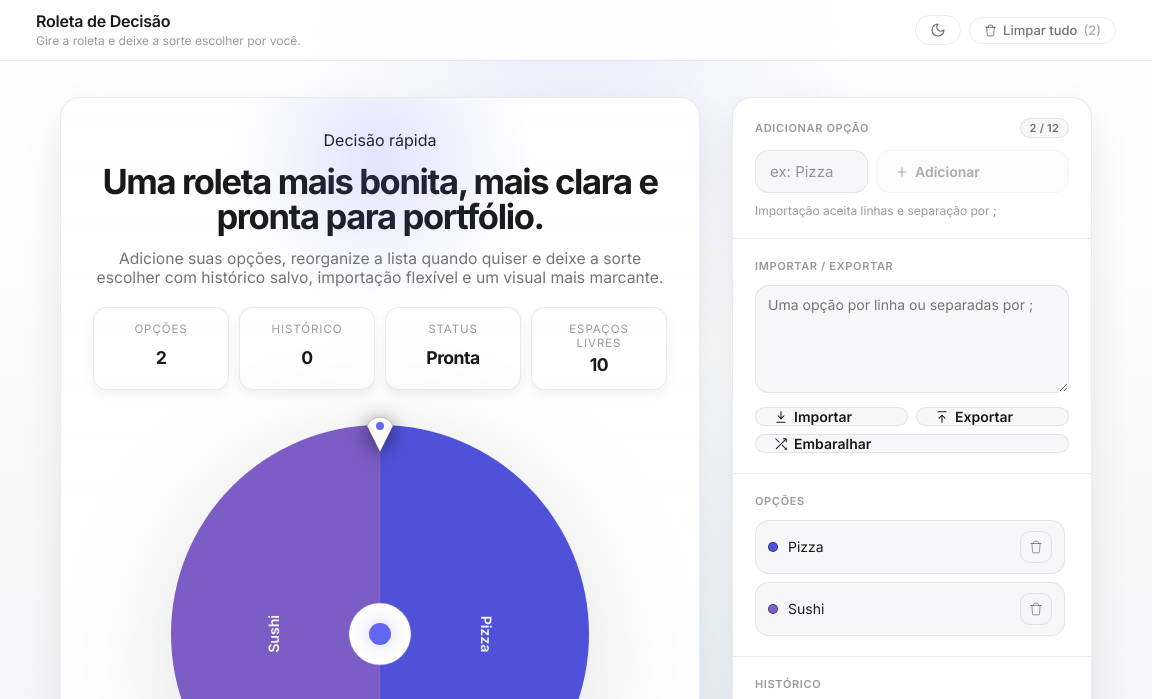
App › adiciona uma nova opção e evita duplicadas
Type "Sorvete" into the field named "nova opção" at (812, 172), box [755,150,868,193]
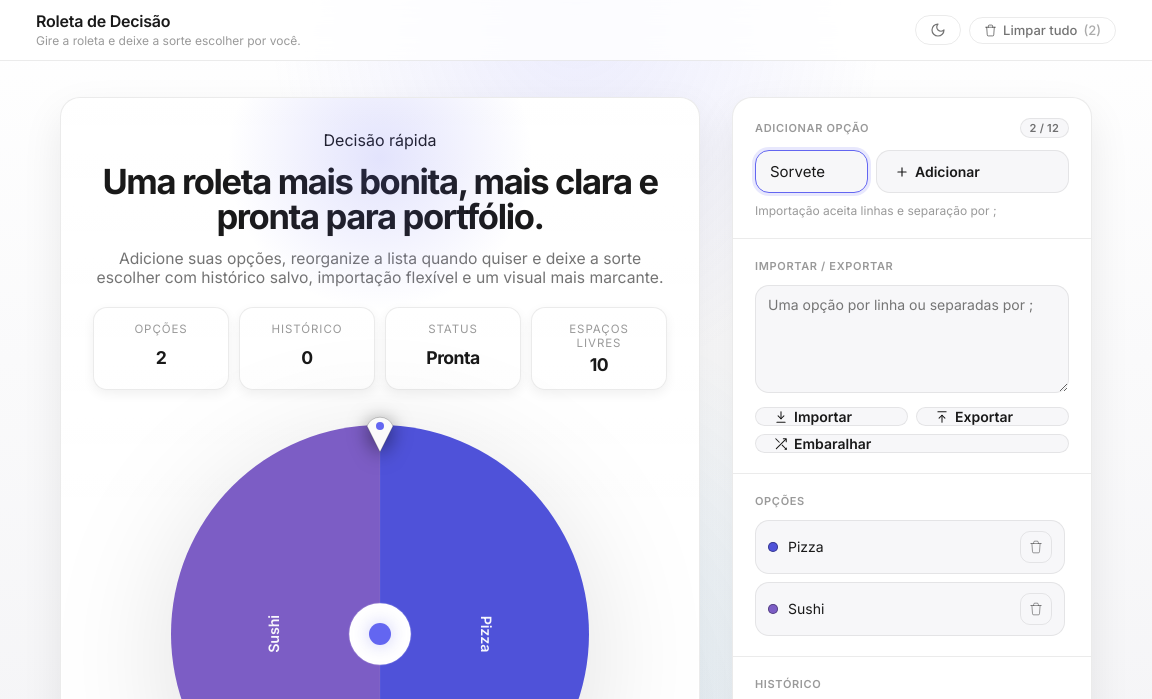
Click the button with aria-label "adicionar opção" at (972, 172), box [876,150,1069,193]
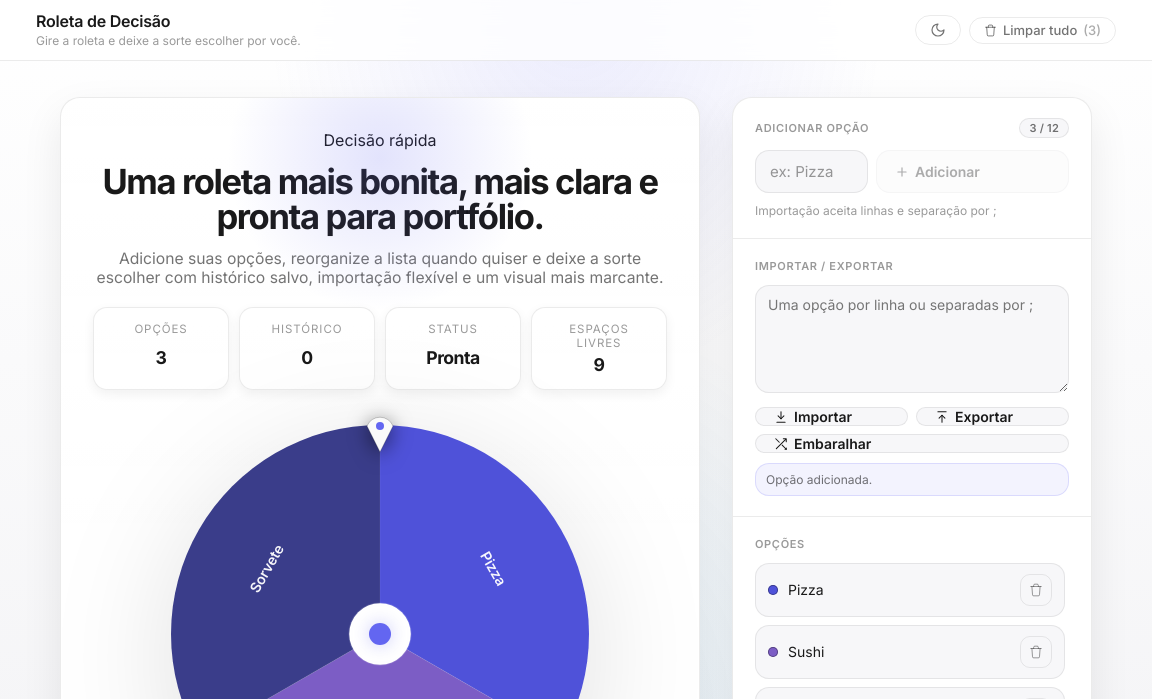
Type "Pizza" into the field named "nova opção" at (812, 172), box [755,150,868,193]
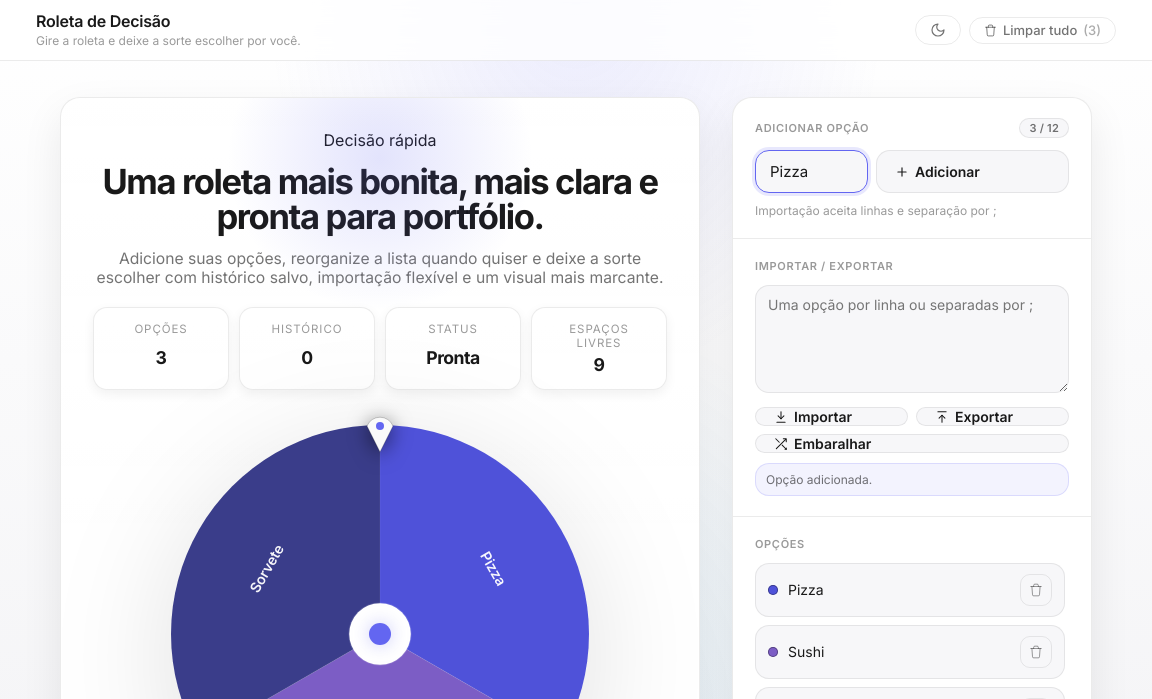
Click the button with aria-label "adicionar opção" at (972, 172), box [876,150,1069,193]
(page scrolled)
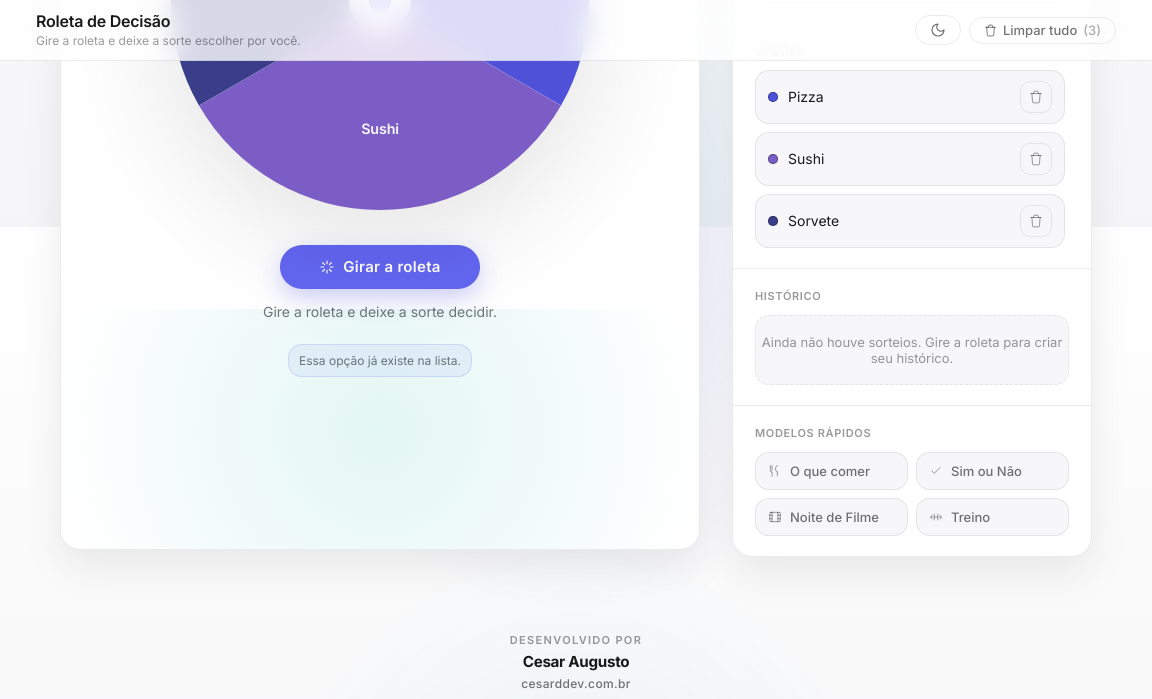
Expected: the text "Essa opção já existe na lista." is shown, [288,344,472,376]
